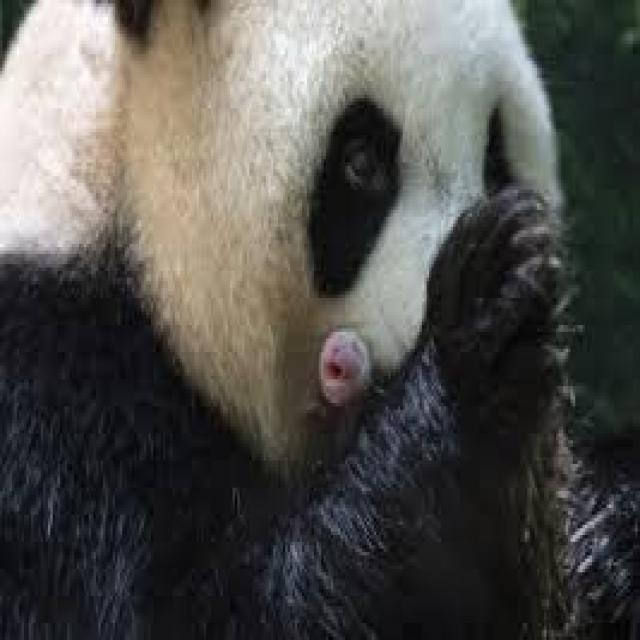Panda: (0, 0, 575, 640)
